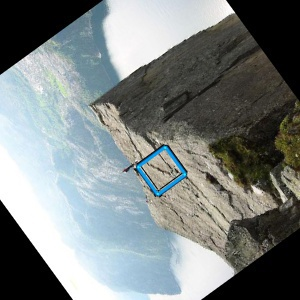square: (131, 142, 189, 199)
